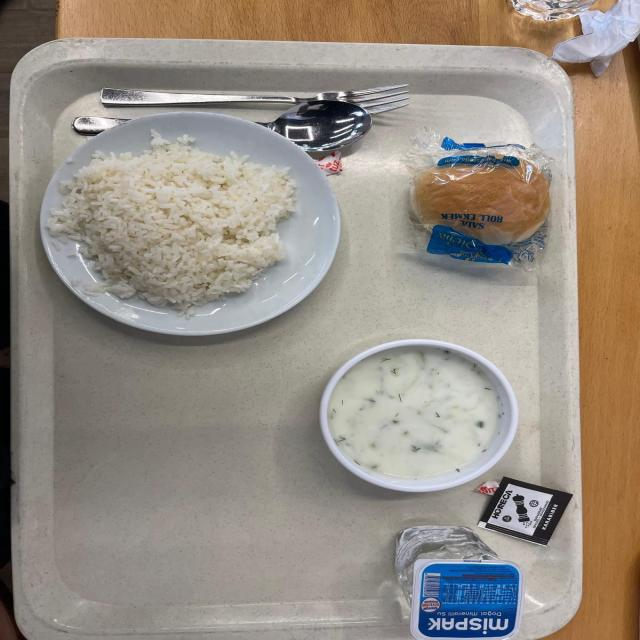ana_yemek: (41, 112, 340, 330)
corba: (318, 343, 510, 490)
